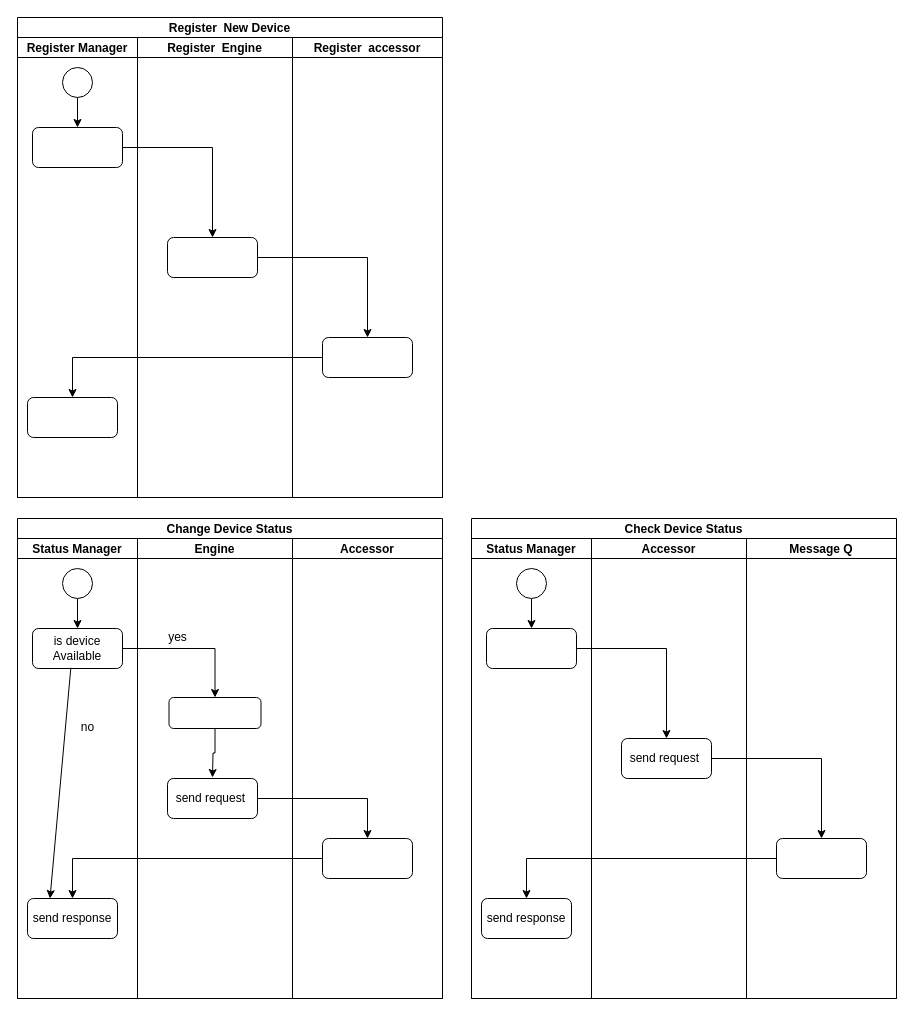
Image size: 914x1016. Some labels were removed from this diagram. The centre of each missing label's shape, as x and y in pixels:
"add new device" goes at pixel 77 147.
"change status" goes at pixel 367 858.
"check is alive" goes at pixel 531 648.
"configure new device rules" goes at pixel 367 357.
"create new device" goes at pixel 72 417.
"get new device params" goes at pixel 212 257.
"get telemetry" goes at pixel 214 712.
"return isAlive" goes at pixel 821 858.
